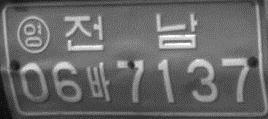0: (19, 63, 49, 104)
1: (149, 58, 181, 103)
3: (186, 58, 218, 102)
6: (51, 61, 83, 103)
7: (115, 59, 146, 104), (221, 57, 250, 103)
바: (86, 62, 111, 102)
영: (15, 16, 51, 54)
전남_D: (62, 14, 198, 51)
